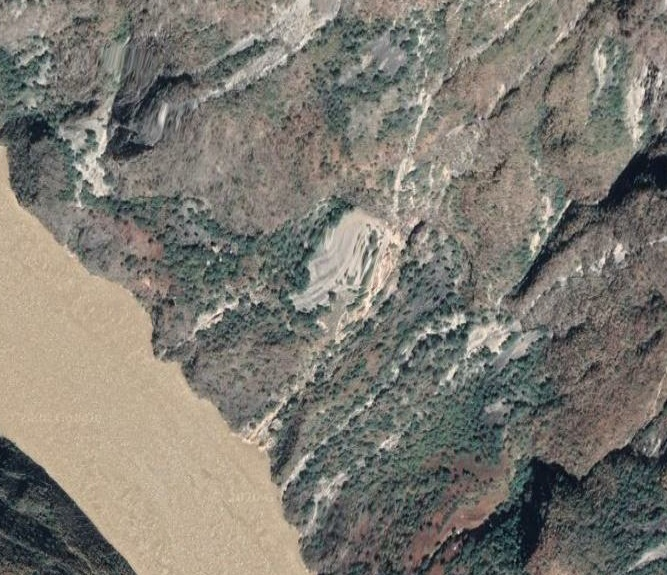slope: (285, 201, 411, 338)
